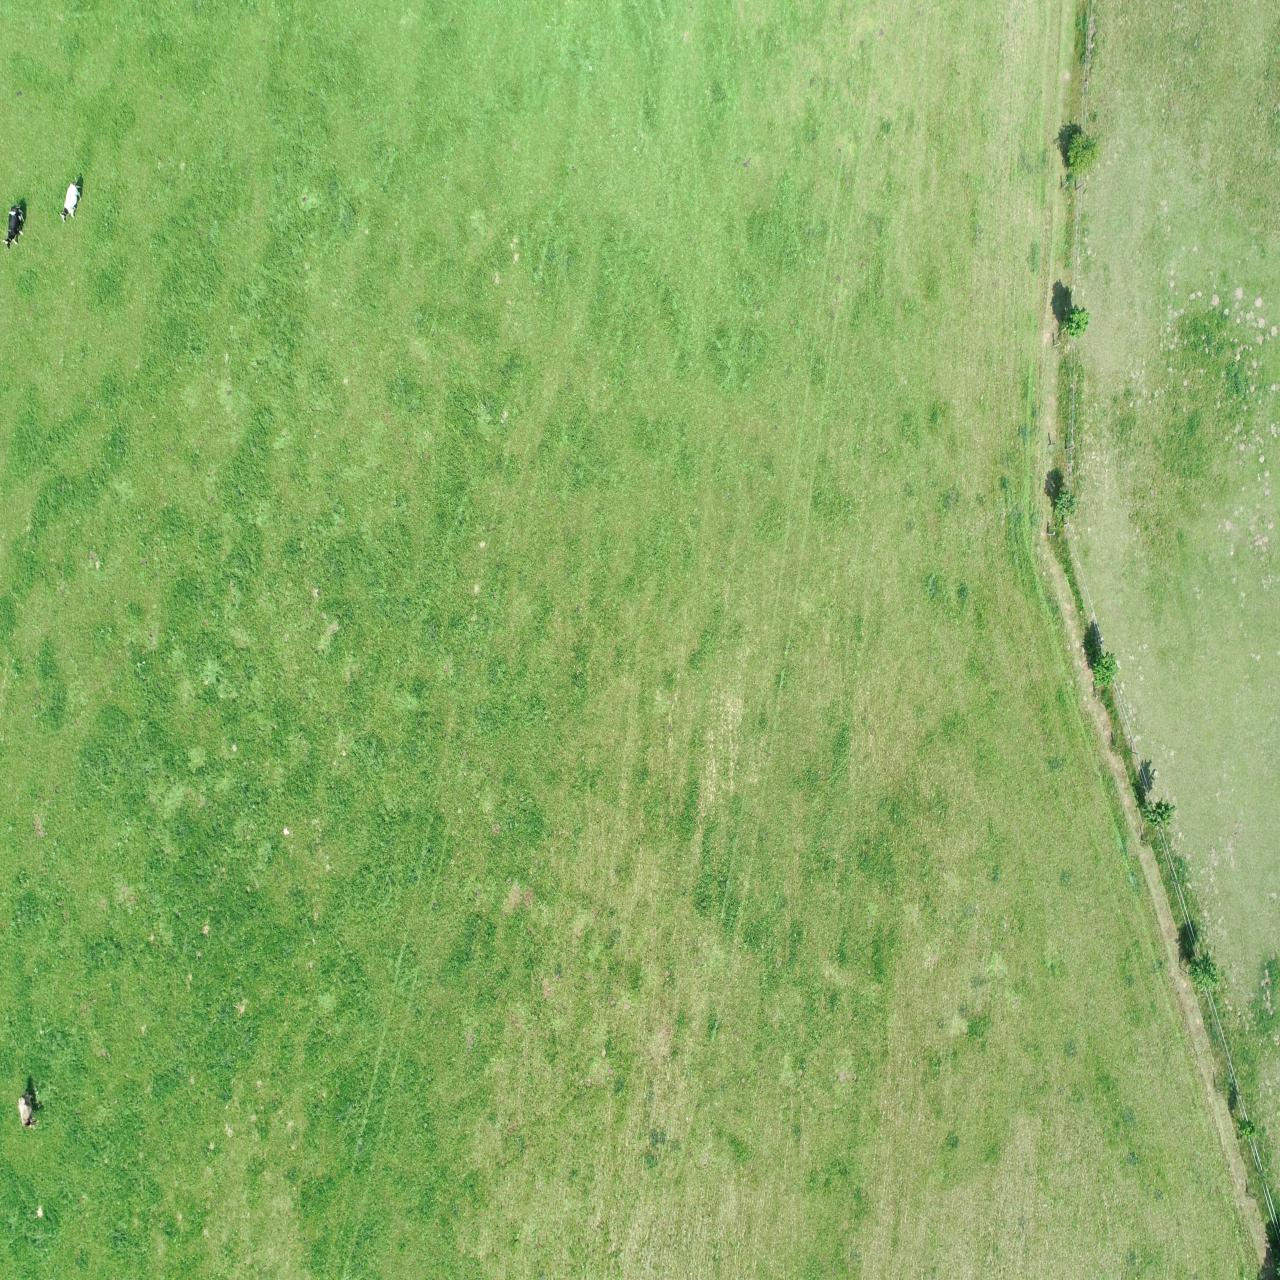cow: (54, 173, 87, 226), (15, 1088, 45, 1137), (1, 200, 28, 252)
